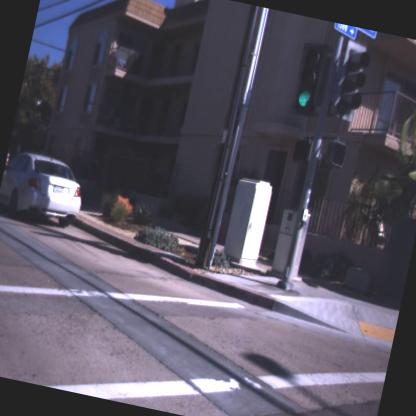trafficlight: (288, 42, 330, 117)
